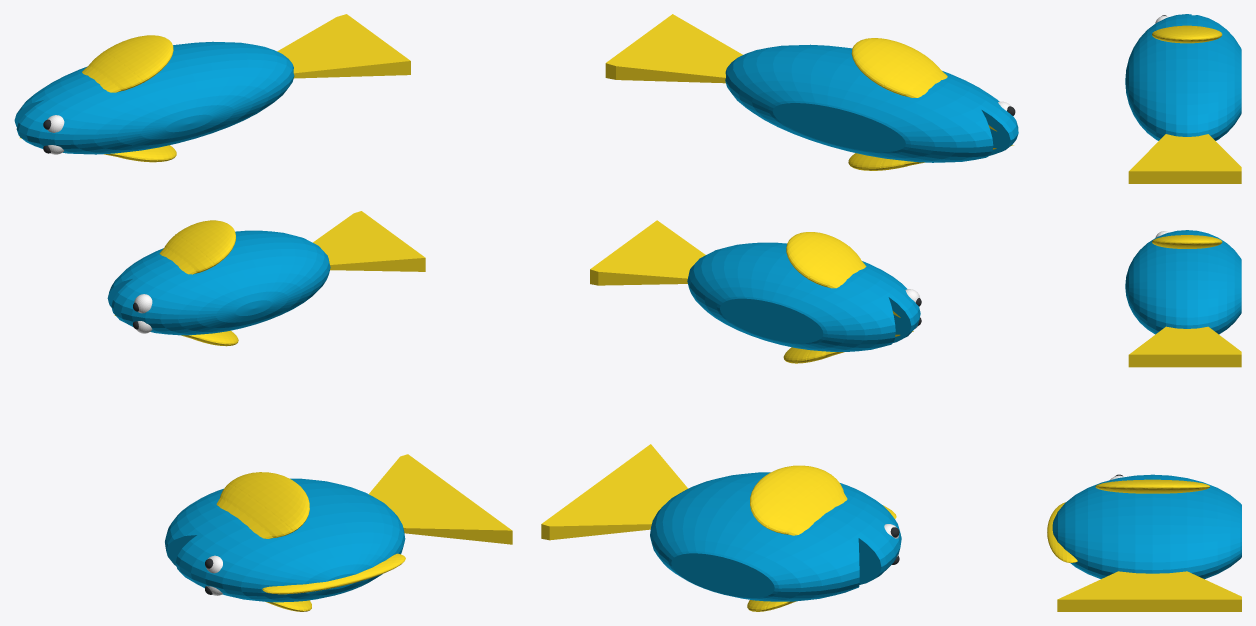
Rendered from tinker.obj.
3 views of the same model, side by side, from view 1: azimuth 30°, elevation 25°; view 2: azimuth 150°, elevation 25°; view 3: azimuth 270°, elevation 25° (orthographic). The views are drawn at different scales.
Visible parts, largest first — view 1: group_0_40919, group_0_16768282, group_0_16448250; view 2: group_0_40919, group_0_16768282; view 3: group_0_40919, group_0_16768282.
Part boxes in pixels (x1,y1,x2,y2): group_0_40919: (14, 41, 405, 602); group_0_16768282: (19, 14, 512, 611); group_0_16448250: (47, 115, 222, 595); group_0_40919: (650, 44, 1018, 601); group_0_16768282: (541, 14, 1013, 611); group_0_40919: (1052, 14, 1241, 579); group_0_16768282: (1047, 25, 1241, 611).
Bounding box in the file's own units: 93.4 × 120 × 42.4.
